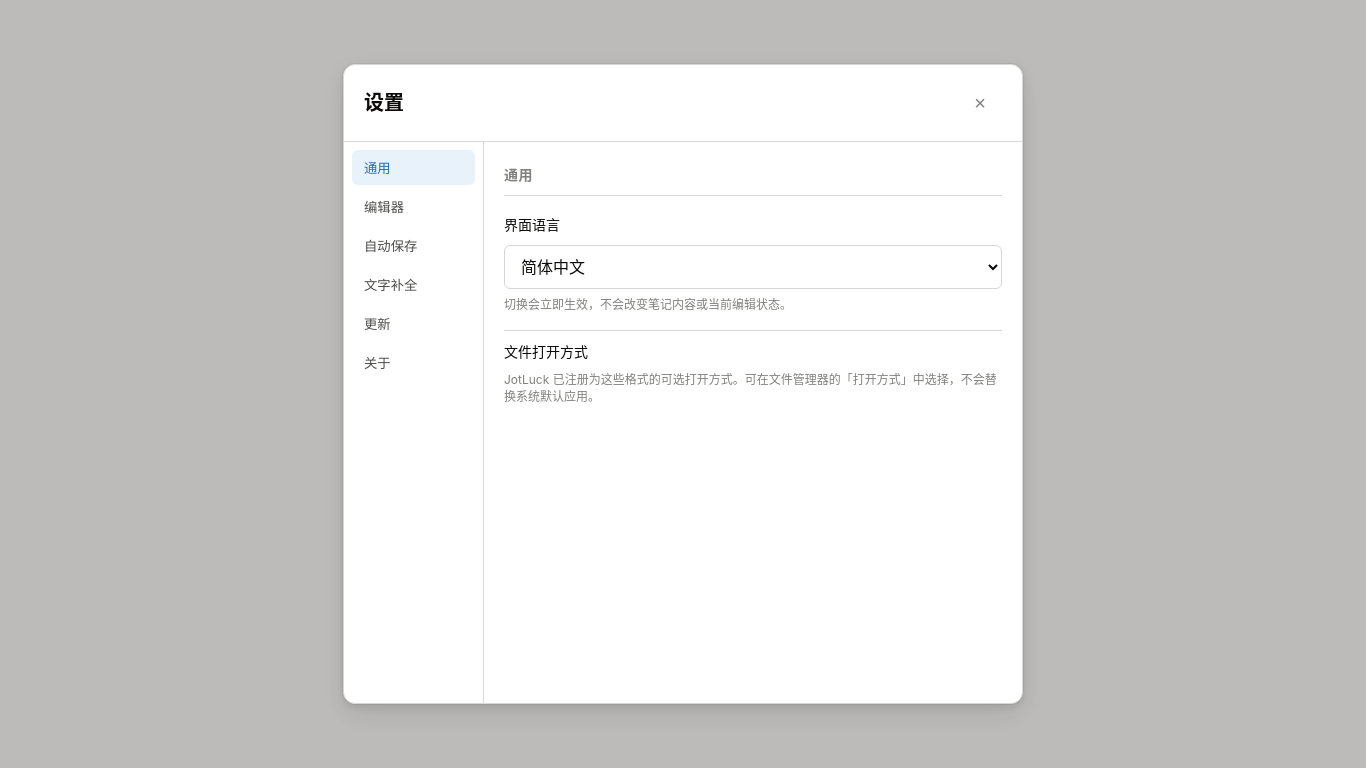
Test: SettingsDialog update check reuses useVersionCheck semantics › recognizes an uppercase-V newer prerelease tag and shows the stripped version
Click the button with class "nav-item" showing "更新": click(414, 324) [352,306,475,341]
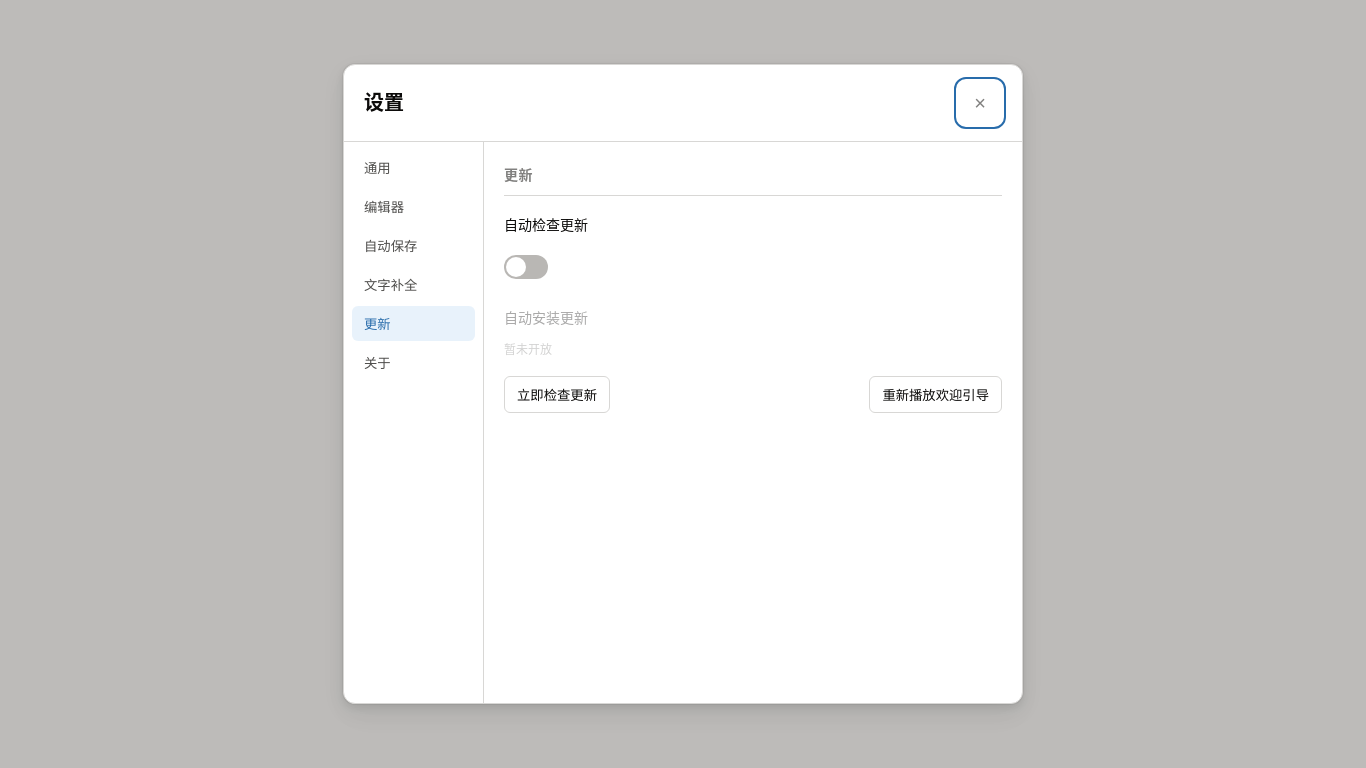
Now the button "立即检查更新" is shown
Click the button "立即检查更新": click(557, 395) [504,376,610,413]
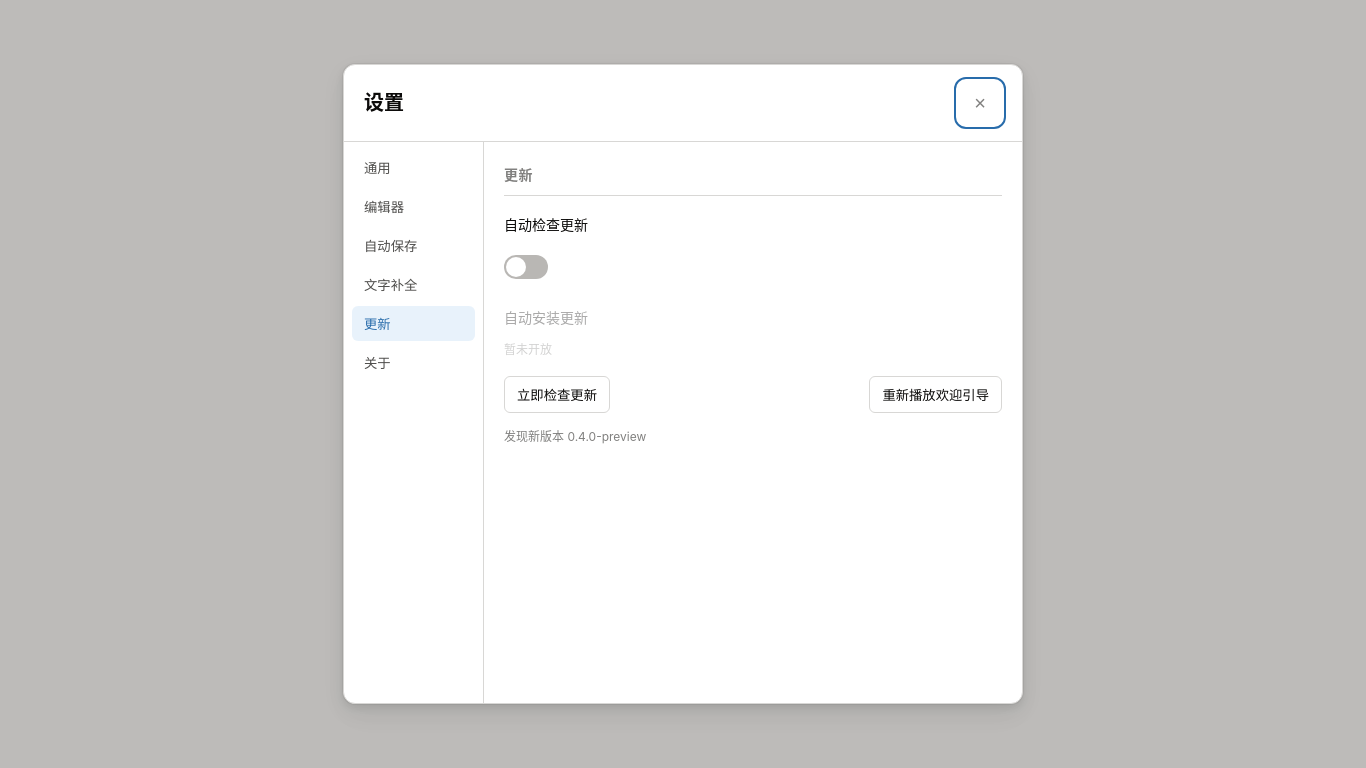
Now the text "发现新版本 0.4.0-preview" is shown, box [504,429,646,444]
